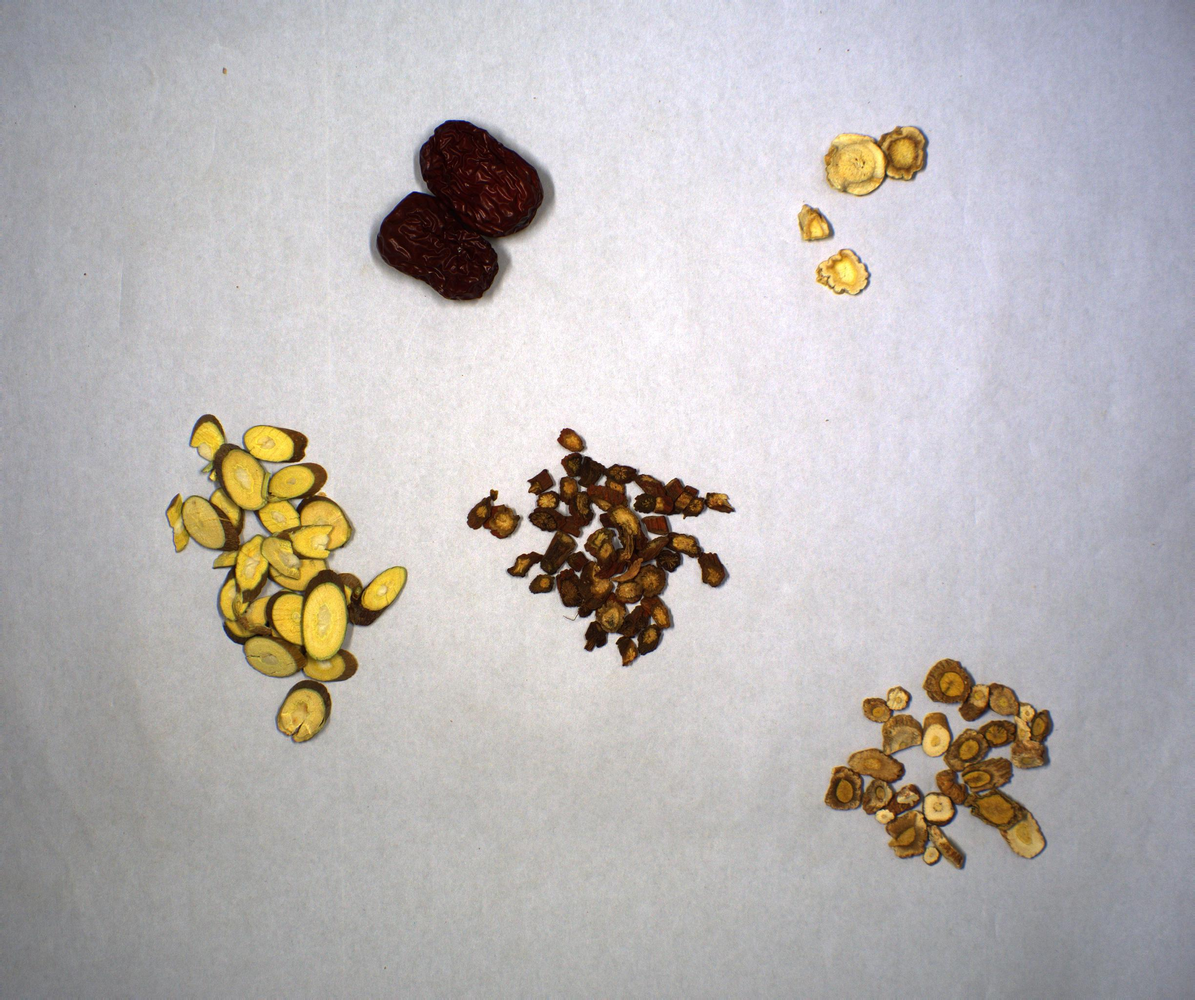banlangen: (824, 659, 1061, 870)
danshen: (468, 423, 740, 672)
dazao: (361, 117, 555, 307)
jiegeng: (793, 116, 935, 295)
sangzhi: (167, 410, 412, 749)
